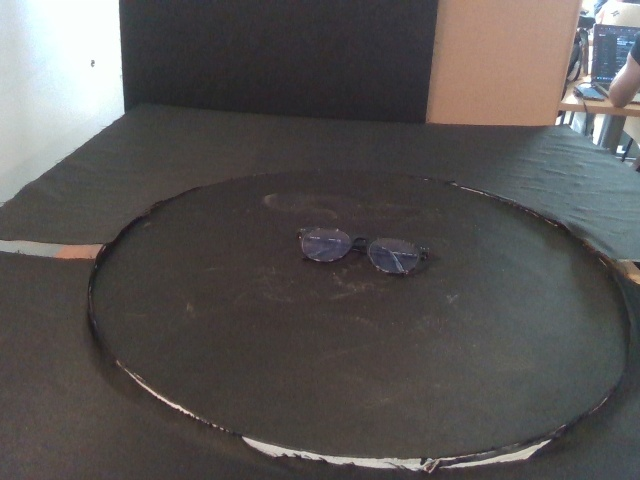glasses: (295, 224, 431, 278)
